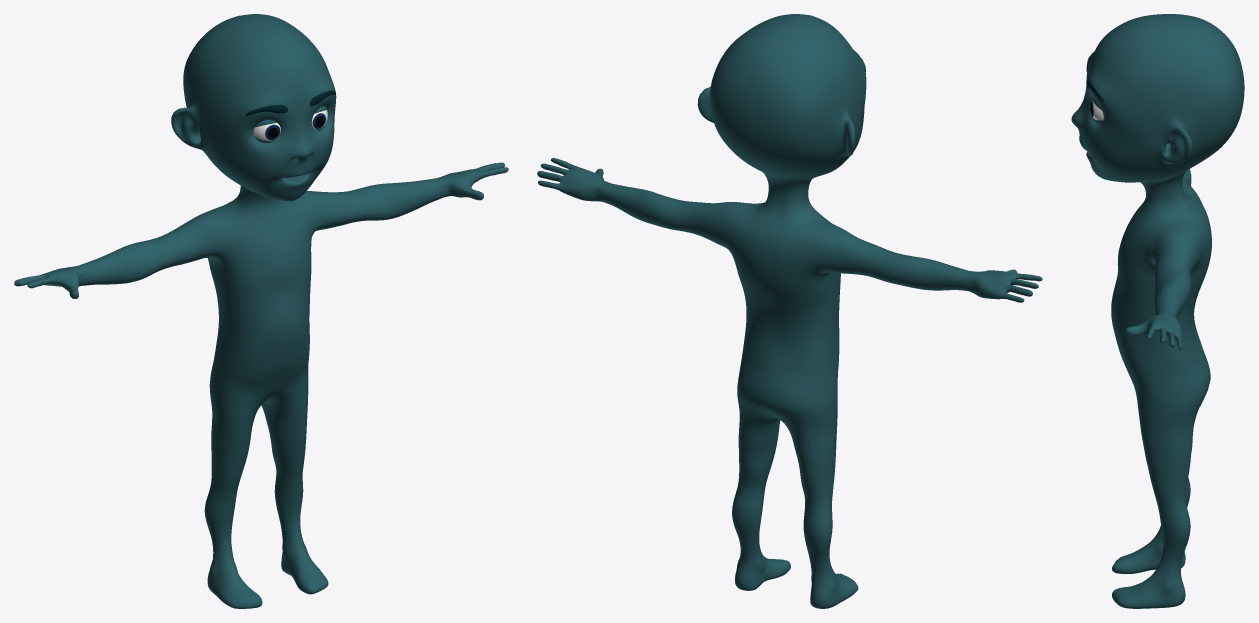
The model's file is SmKid04.obj.
The picture shows the model from 3 angles, left to right: view 1: azimuth 30°, elevation 25°; view 2: azimuth 150°, elevation 25°; view 3: azimuth 270°, elevation 25°; orthographic projection. The views are drawn at different scales.
Visible parts, largest first — view 1: Geometry Body_Base_geo; view 2: Geometry Body_Base_geo; view 3: Geometry Body_Base_geo.
Boxes of the visible parts, x1,y1,x2,y2 form: Geometry Body_Base_geo: [14, 14, 508, 608]; Geometry Body_Base_geo: [537, 14, 1042, 608]; Geometry Body_Base_geo: [1071, 14, 1244, 608].
Bounding box in the file's own units: 41.18 × 45.38 × 12.53.
